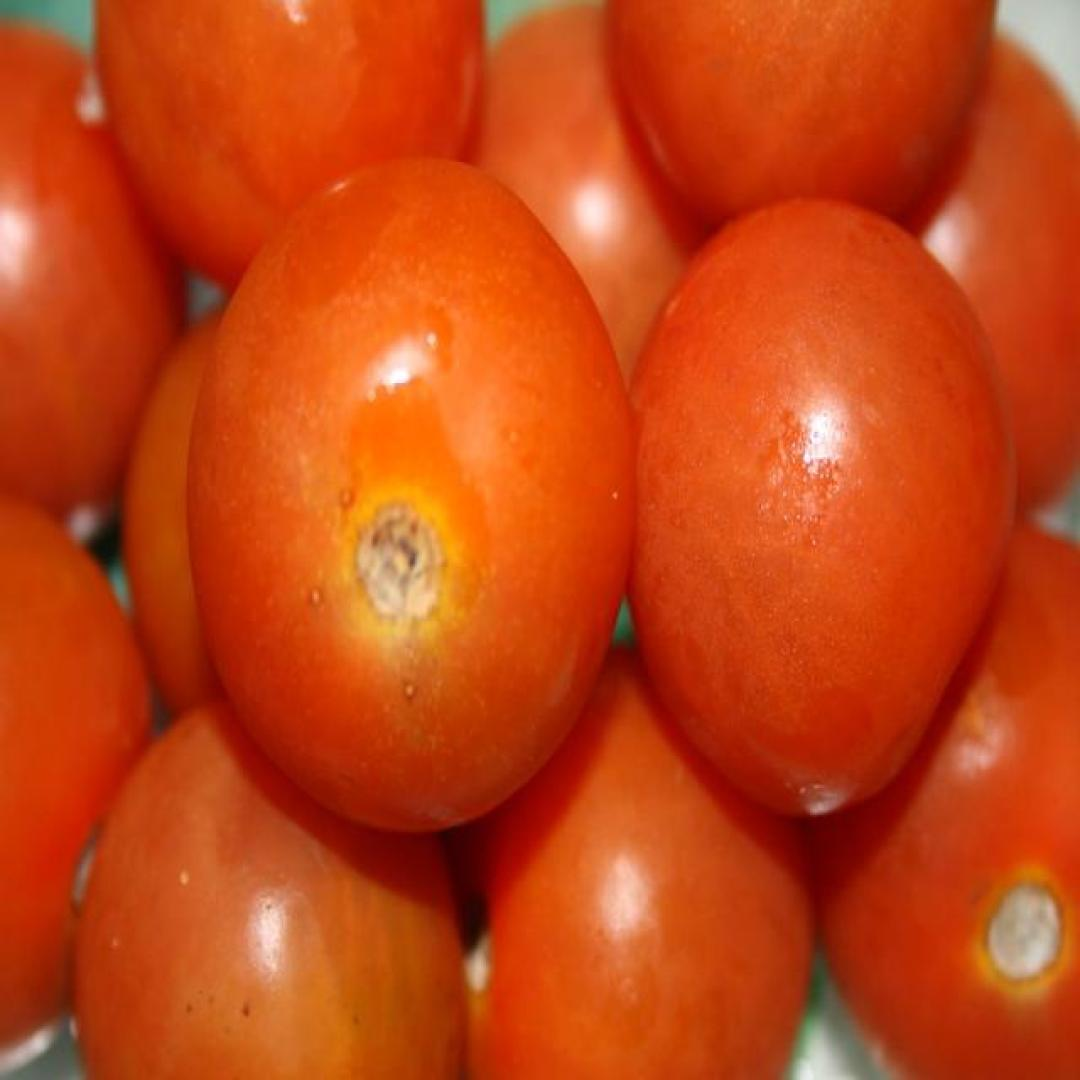matang: (188, 155, 634, 832), (624, 194, 1019, 817)
